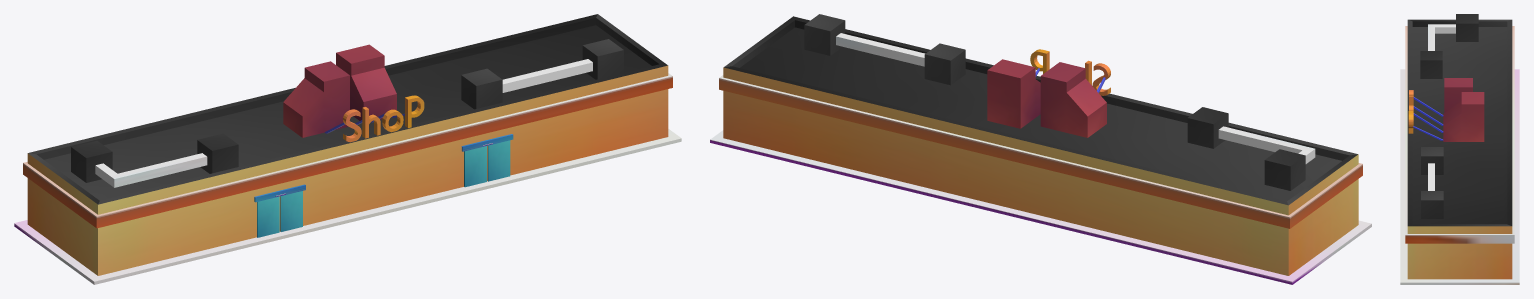
The model's file is Shop_2.glb.
3 renders of one model, left to right at view 1: azimuth 30°, elevation 25°; view 2: azimuth 150°, elevation 25°; view 3: azimuth 270°, elevation 25°, orthographic. The views are drawn at different scales.
Parts seen in each view (by area): view 1: Shop_2; view 2: Shop_2; view 3: Shop_2.
Boxes of the visible parts, <box> form: Shop_2: <box>14,14,681,284</box>; Shop_2: <box>710,14,1371,284</box>; Shop_2: <box>1400,14,1519,284</box>.
Bounding box in the file's own units: 4479 × 862 × 1058.
Materials: 1 (1 with a texture image).
